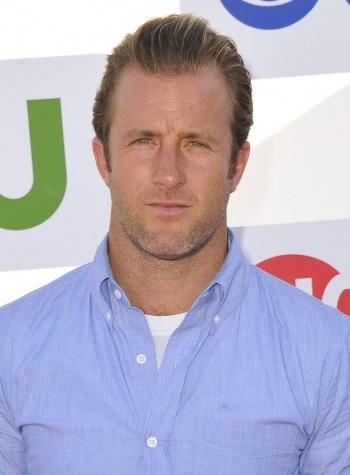bad: (110, 110, 239, 239)
